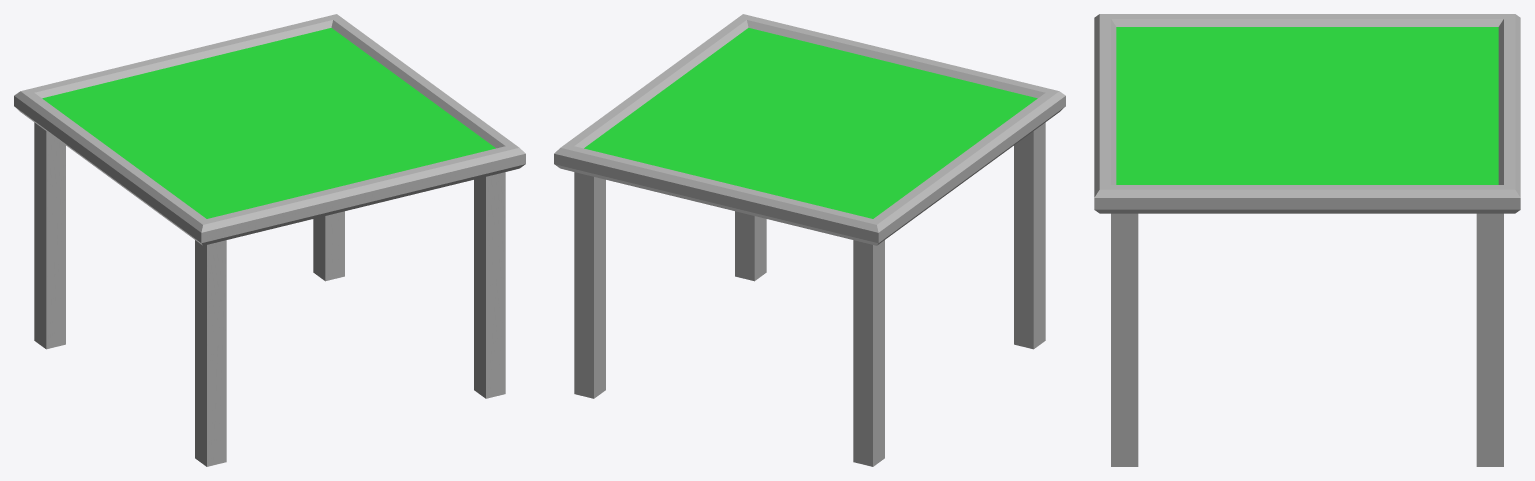
File: Tafel.fbx
The picture shows the model from 3 angles, left to right: view 1: azimuth 30°, elevation 25°; view 2: azimuth 150°, elevation 25°; view 3: azimuth 270°, elevation 25°; orthographic projection. The views are drawn at different scales.
Parts seen in each view (by area): view 1: Row; view 2: Row; view 3: Row.
Part boxes in pixels (bbox=[...]): Row: bbox=[14, 14, 525, 466]; Row: bbox=[554, 14, 1065, 466]; Row: bbox=[1094, 14, 1520, 466].
Bounding box in the file's own units: 113 × 82.86 × 113.
